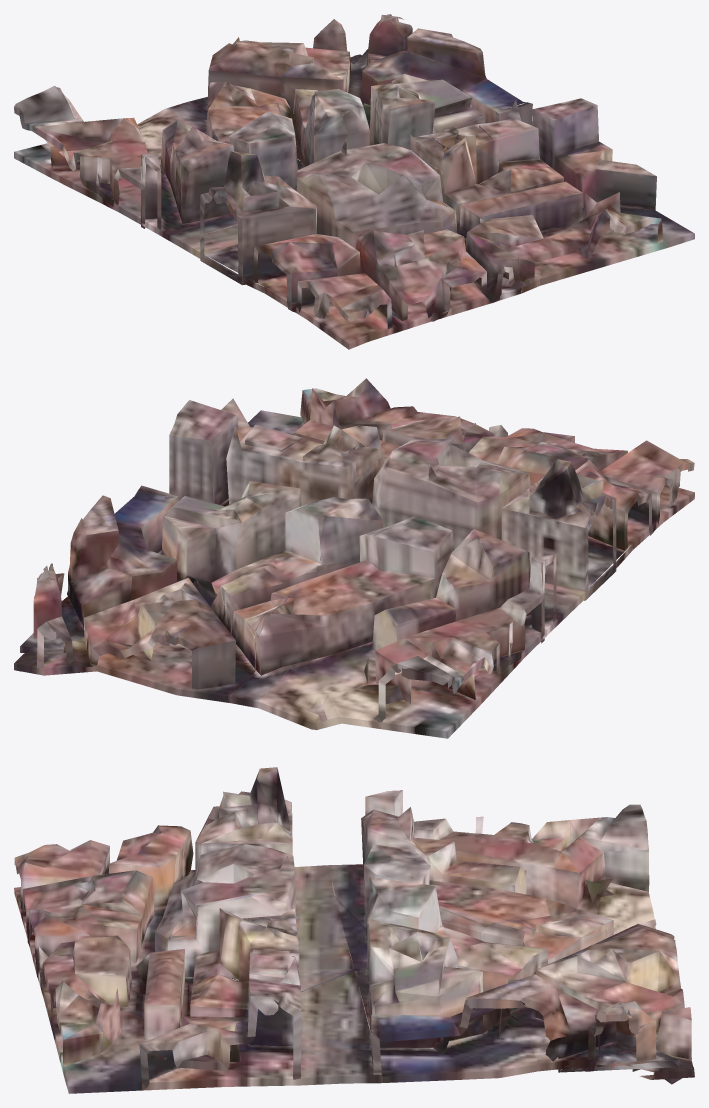
3 renders of one model, top to bottom at view 1: azimuth 30°, elevation 25°; view 2: azimuth 150°, elevation 25°; view 3: azimuth 270°, elevation 25°, orthographic. The views are drawn at different scales.
Parts seen in each view (by area): view 1: Mesh_0; view 2: Mesh_0; view 3: Mesh_0.
Part boxes in pixels (<box>): Mesh_0: <box>14,14,694,349</box>; Mesh_0: <box>14,378,694,738</box>; Mesh_0: <box>14,767,694,1093</box>.
Bounding box in the file's own units: 266 × 77.88 × 330.
Materials: 1 (1 with a texture image).
